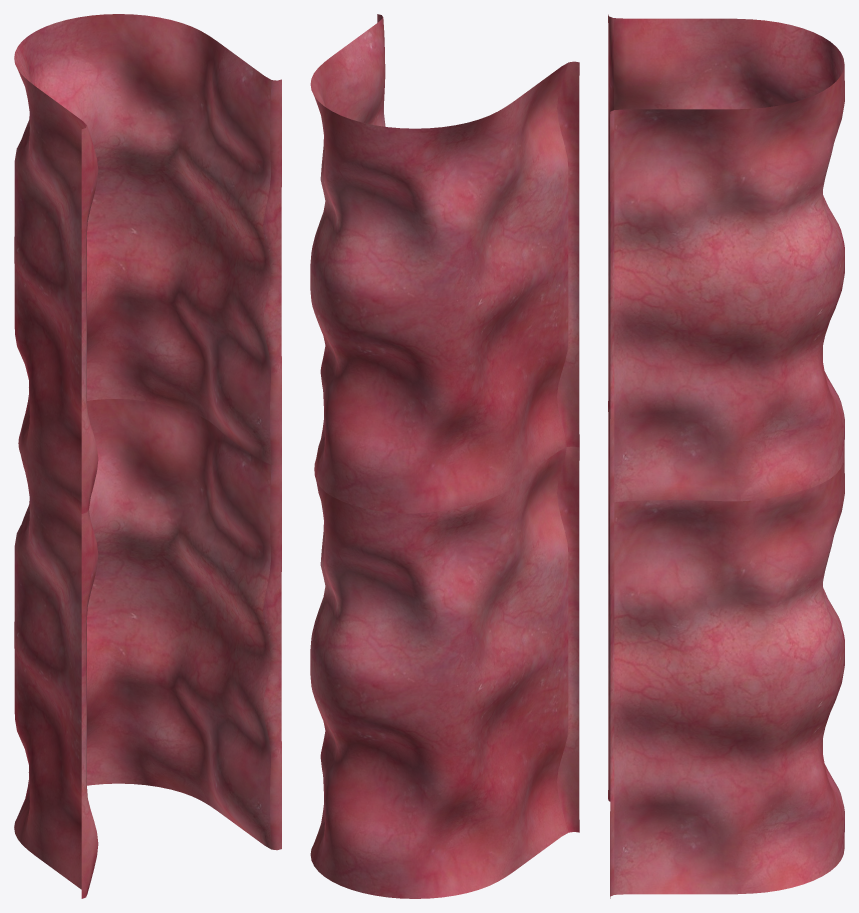
The model's file is Tube Part Down test.FBX.
The picture shows the model from 3 angles, left to right: view 1: azimuth 30°, elevation 25°; view 2: azimuth 150°, elevation 25°; view 3: azimuth 270°, elevation 25°; orthographic projection.
Visible parts, largest first — view 1: ThroatEnvironment015; view 2: ThroatEnvironment015; view 3: ThroatEnvironment015.
Part boxes in pixels (x1,y1,x2,y2): ThroatEnvironment015: (14, 14, 281, 898); ThroatEnvironment015: (310, 14, 579, 898); ThroatEnvironment015: (608, 14, 844, 898).
Bounding box in the file's own units: 98.56 × 360 × 98.61.
